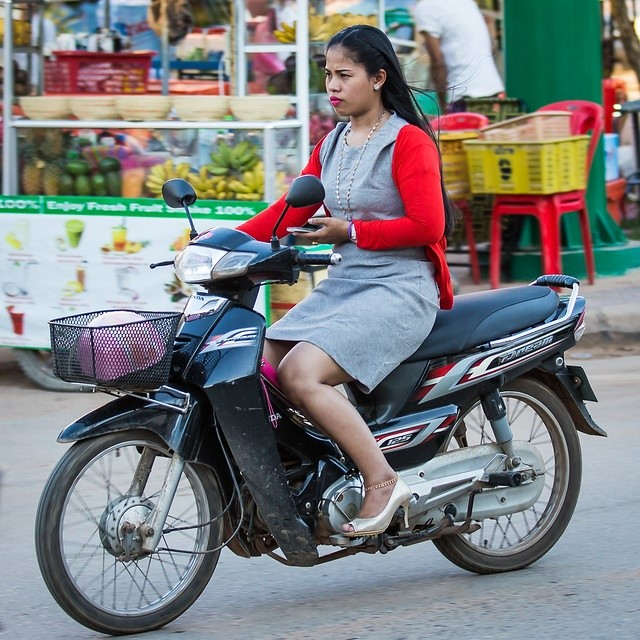face_no_mask: (326, 24, 395, 115)
